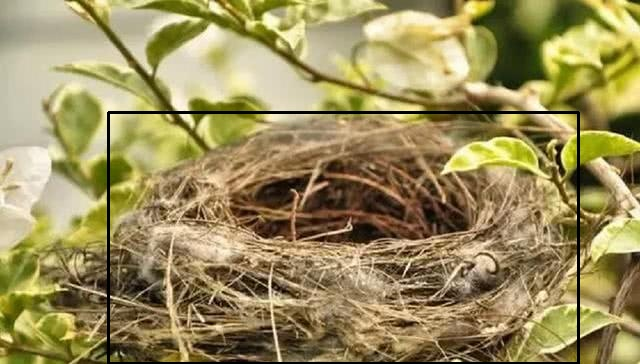bird-nest: (108, 112, 578, 363)
